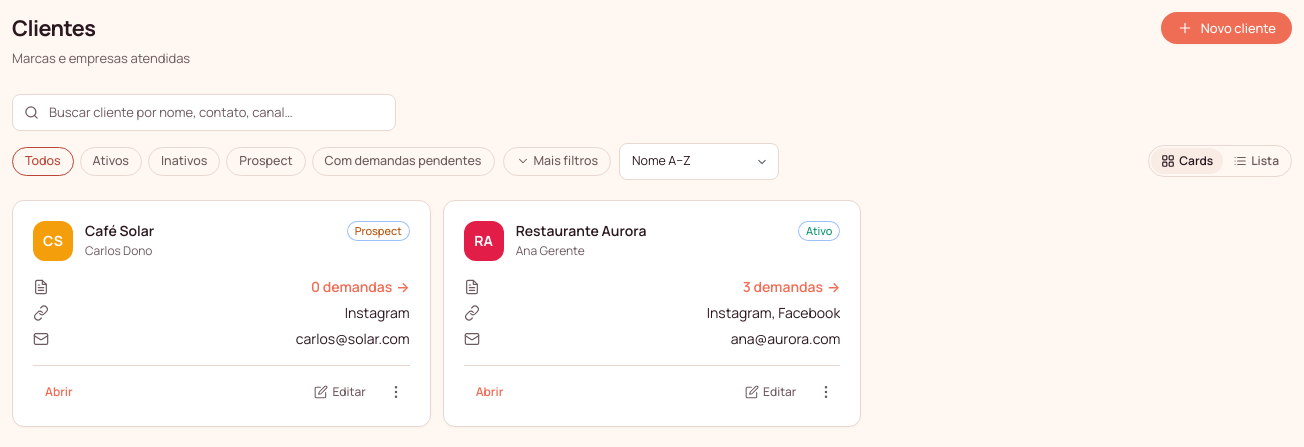
Test: Clients Feature — B3 Functional Wiring › renders clients list with status and action buttons (Editar / Excluir)
Expected: the text "Restaurante Aurora" is shown, [516,221,646,241]
Expected: the text "Café Solar" is shown, [85,221,154,241]
Note: "Excluir" now lives inside the overflow menu, not on the card surface.
Click the button named "Mais ações para Café Solar": point(396, 392) [382,378,410,406]
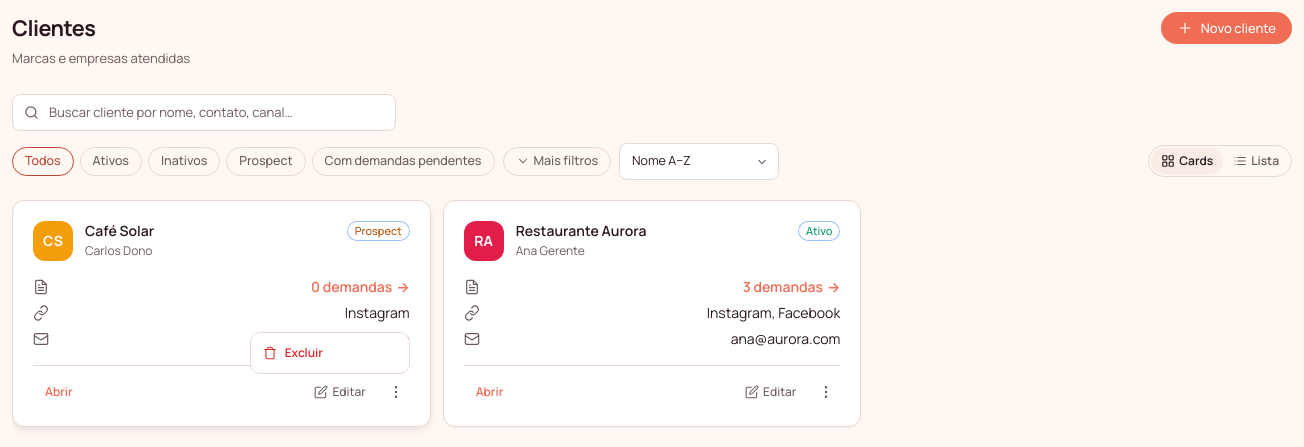
Result: the menu item "Excluir" is shown at [251,337,409,369]
